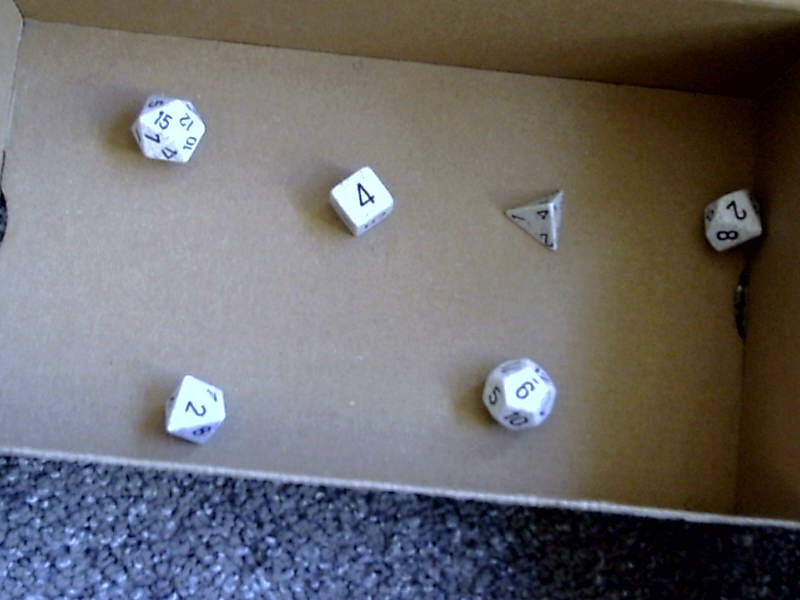d10 2: (692, 167, 768, 258)
d12 6: (477, 348, 559, 438)
d20 15: (123, 79, 209, 173)
d4 4: (499, 177, 570, 259)
d6 4: (318, 158, 404, 244)
d8 2: (154, 362, 230, 448)
